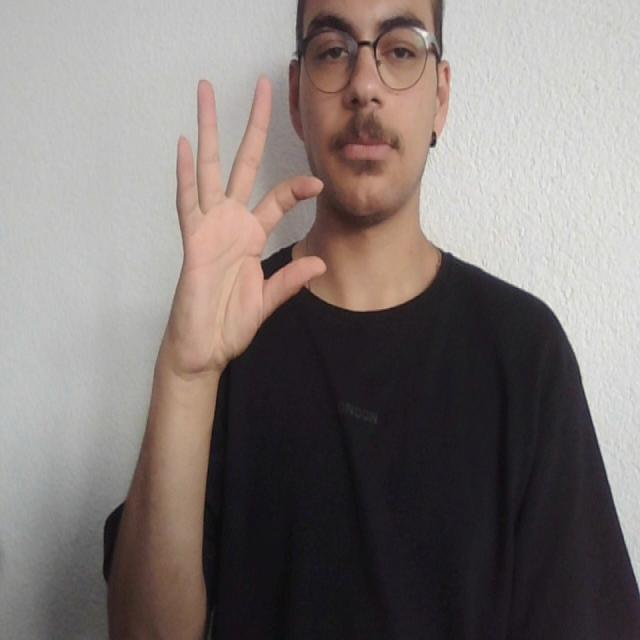Tuvalet: (148, 66, 332, 372)
